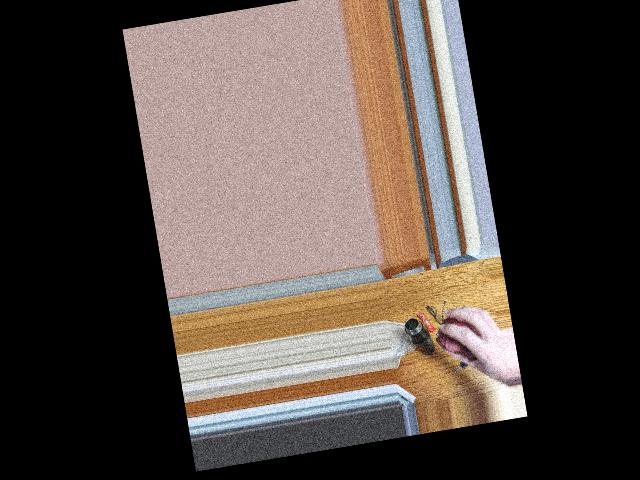onion: (438, 314, 477, 354)
